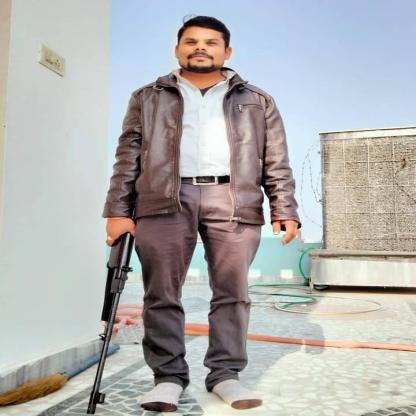rifle: (85, 153, 143, 415)
